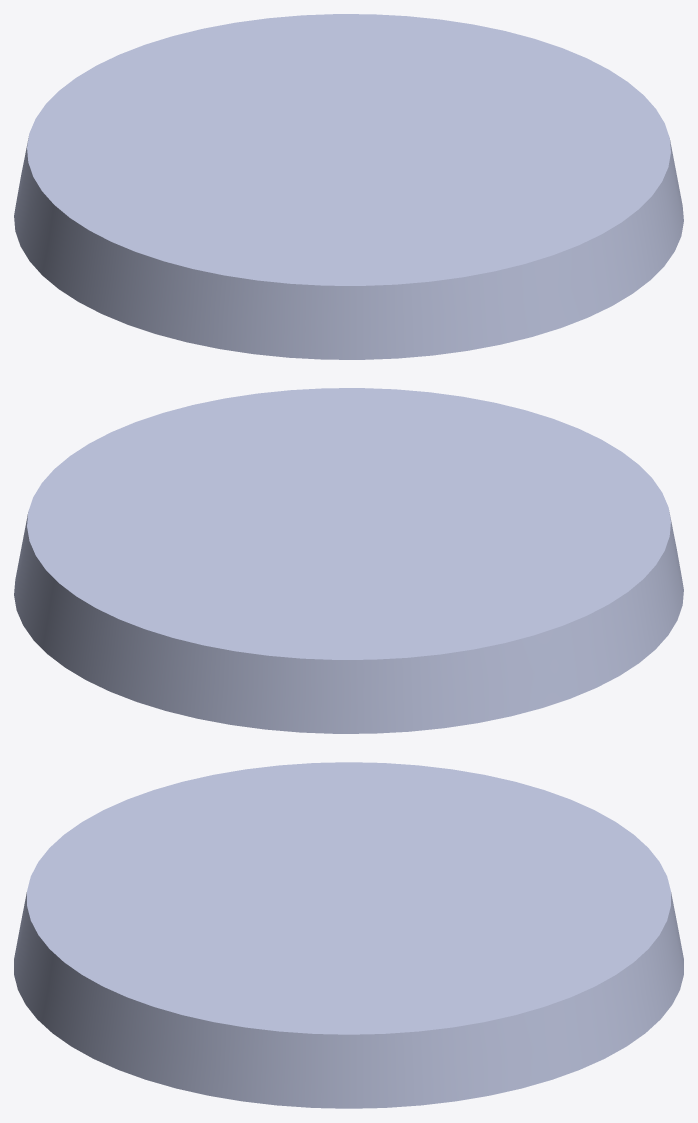
The model's file is 130_tapa_corcho.glb.
3 views of the same model, one above another, from view 1: azimuth 30°, elevation 25°; view 2: azimuth 150°, elevation 25°; view 3: azimuth 270°, elevation 25° (orthographic).
Parts seen in each view (by area): view 1: TAPA CORCHO 130; view 2: TAPA CORCHO 130; view 3: TAPA CORCHO 130.
Part boxes in pixels (x1=…): TAPA CORCHO 130: x1=14, y1=14, x2=683, y2=359; TAPA CORCHO 130: x1=14, y1=388, x2=683, y2=733; TAPA CORCHO 130: x1=14, y1=762, x2=683, y2=1108.
Size of the model in its own units: 0.1331 by 0.015 by 0.1329.
